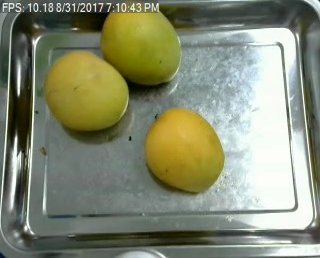Mango: (93, 0, 188, 84), (43, 51, 135, 131), (148, 103, 227, 195)
